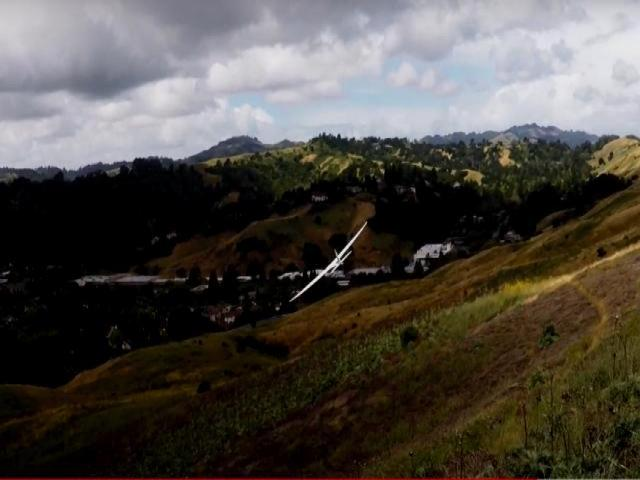iha: (291, 218, 373, 302)
